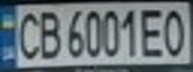0: (81, 7, 106, 58), (103, 6, 121, 58)
1: (118, 6, 142, 58)
6: (60, 6, 84, 60)
B: (33, 7, 63, 61)
C: (12, 7, 45, 61)
E: (136, 6, 169, 58)
O: (157, 5, 193, 57)
